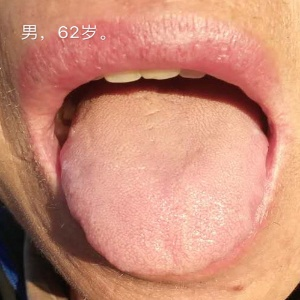st: (62, 108, 273, 281)
